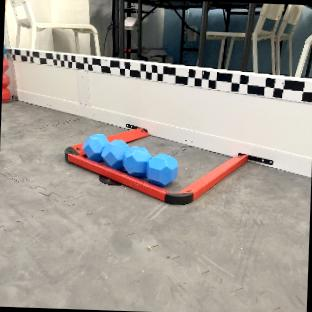V5_BLUE: (84, 134, 177, 186)
V5_RED: (2, 60, 11, 101)
